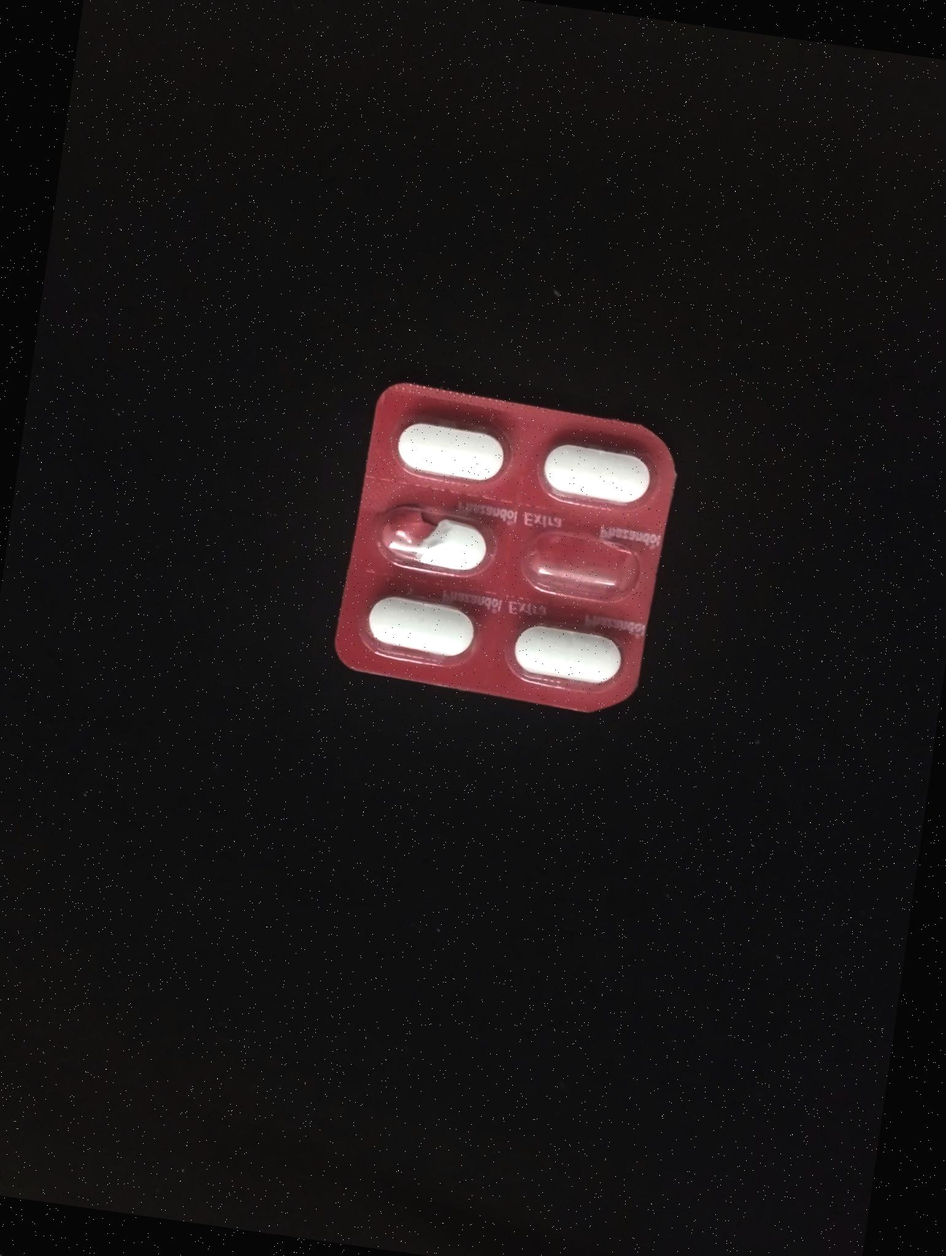Empty: (510, 518, 661, 616)
Full: (504, 606, 639, 692), (349, 584, 483, 669), (379, 410, 507, 488), (533, 434, 658, 509)
Partial: (372, 500, 502, 586)
